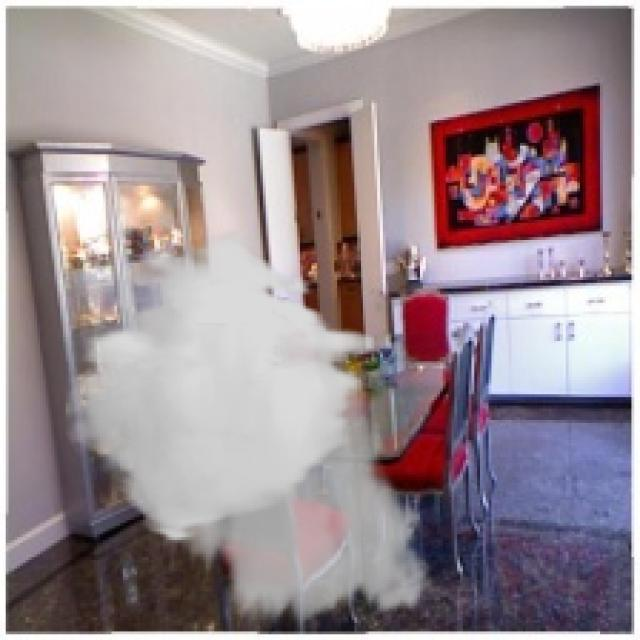Smoke: (66, 228, 446, 638)
